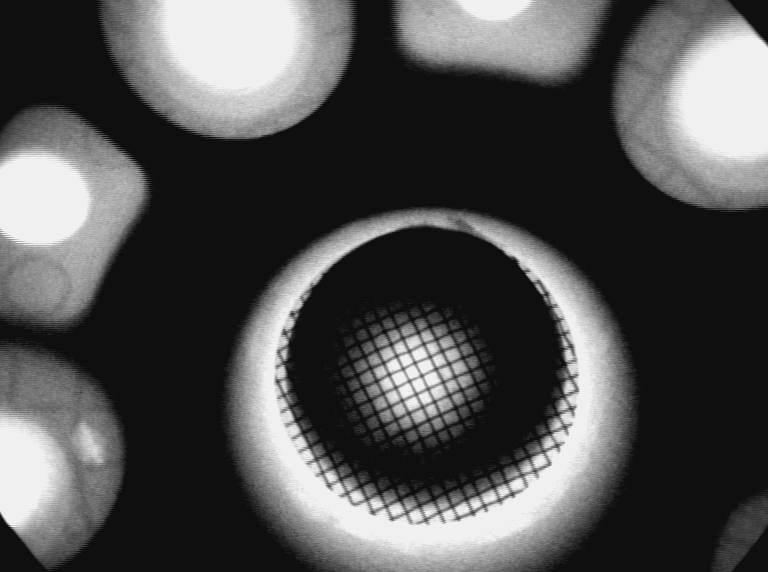defect: (69, 421, 114, 472)
